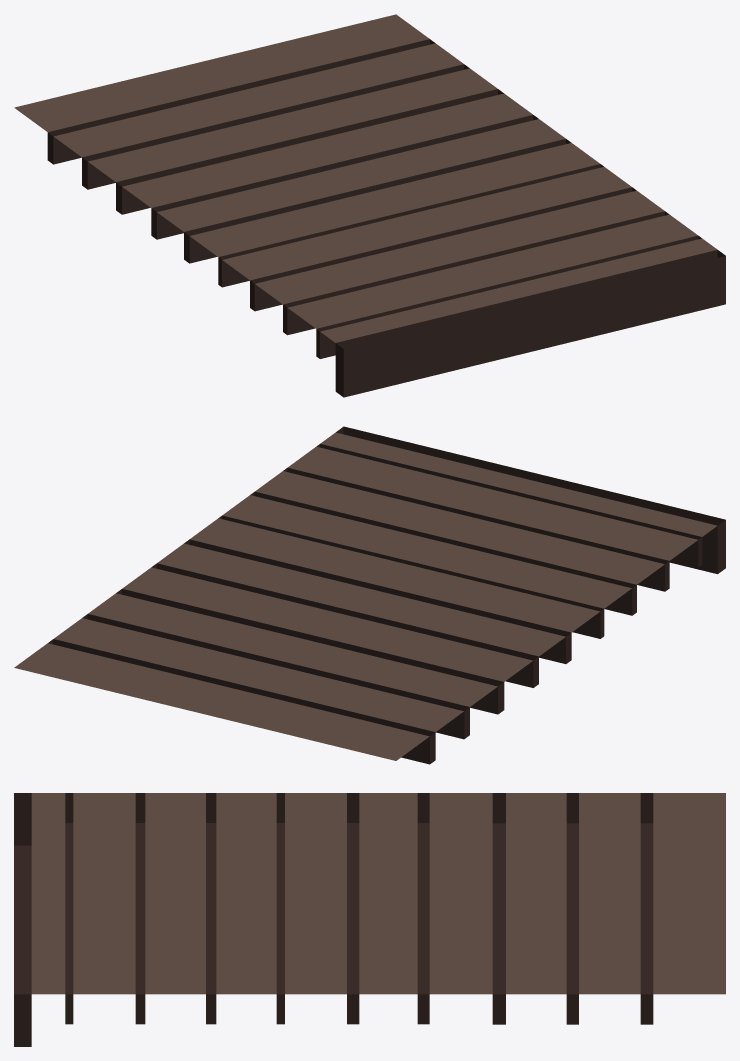
File: set_2_roof.glb
3 renders of one model, top to bottom at view 1: azimuth 30°, elevation 25°; view 2: azimuth 150°, elevation 25°; view 3: azimuth 270°, elevation 25°, orthographic. The views are drawn at different scales.
Visible parts, largest first — view 1: Roof2; view 2: Roof2; view 3: Roof2.
Part boxes in pixels (x1,y1,x2,y2): Roof2: (14, 14, 725, 397); Roof2: (14, 426, 725, 764); Roof2: (14, 793, 725, 1046).
Size of the model in its own units: 5.17 by 0.6277 by 7.72.
